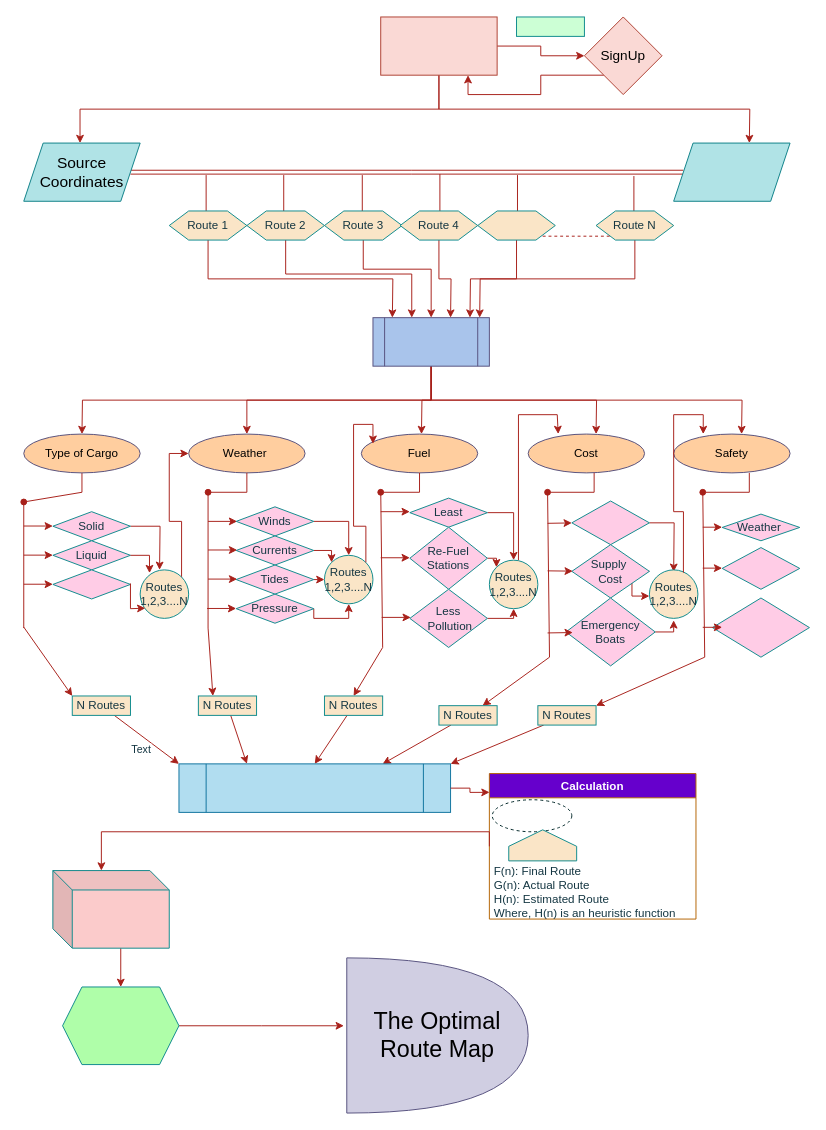
Some shapes in this 826 by 1130 pixel diagram are drawn without their labels. The centre of each missing label's shape, as x and y in pixels:
A* + Genetic Algorithm f(n)= g(n) + h(n): point (314, 787)
Destination Coordinates: point (731, 171)
Dijkstra's: point (542, 845)
Display The Route Coordinates: point (120, 1025)
F(n)= G(n) + H(n): point (531, 815)
Fuel Cost: point (610, 522)
Gaseous: point (91, 584)
Login: point (438, 45)
Medical Emergency: point (760, 627)
Modules: point (430, 341)
Not a user: point (550, 26)
Optimal Route: point (110, 909)
Pirate Attack: point (760, 568)
Route 5: point (516, 225)
